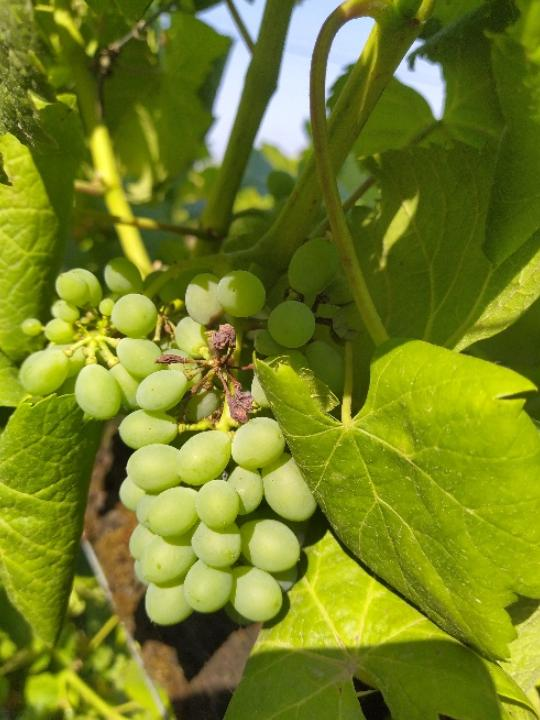grape: (7, 228, 368, 631)
